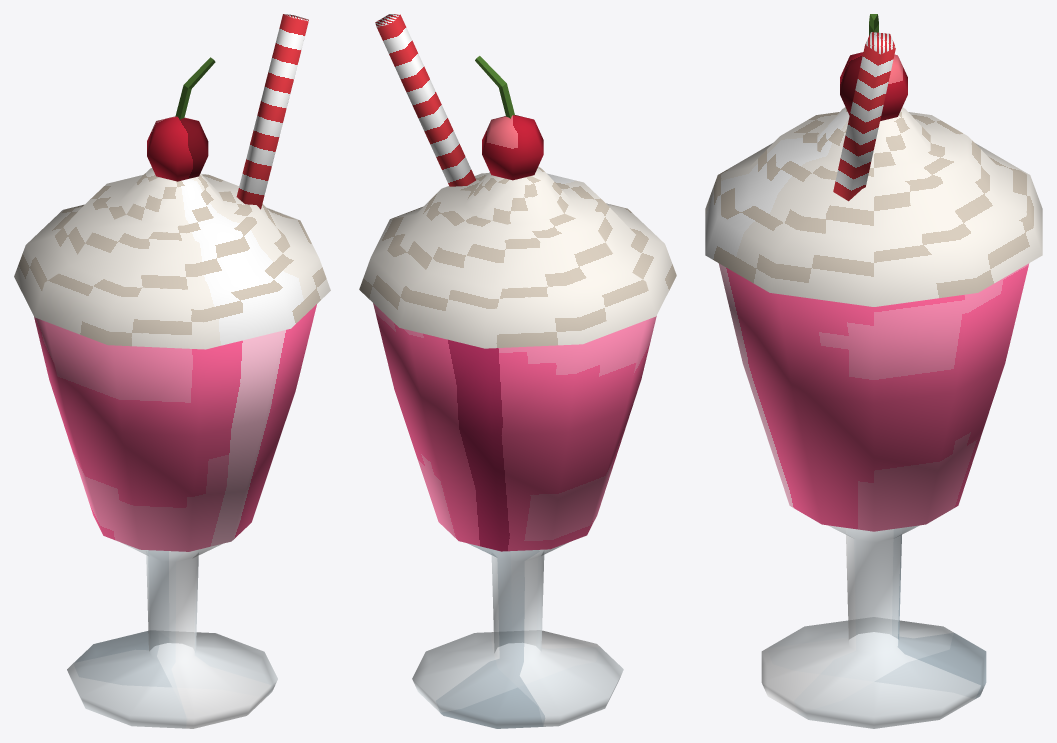
Rendered from drinks-milkshake.glb.
The picture shows the model from 3 angles, left to right: view 1: azimuth 30°, elevation 25°; view 2: azimuth 150°, elevation 25°; view 3: azimuth 270°, elevation 25°; orthographic projection. The views are drawn at different scales.
Parts seen in each view (by area): view 1: drinks.milkshake; view 2: drinks.milkshake; view 3: drinks.milkshake.
Part boxes in pixels (left/top/right/bottom): drinks.milkshake: left=14, top=14, right=330, bottom=728; drinks.milkshake: left=359, top=14, right=676, bottom=728; drinks.milkshake: left=705, top=14, right=1042, bottom=728.
Size of the model in its own units: 0.8432 by 1.86 by 0.7972.
6 materials, 5 textured.
